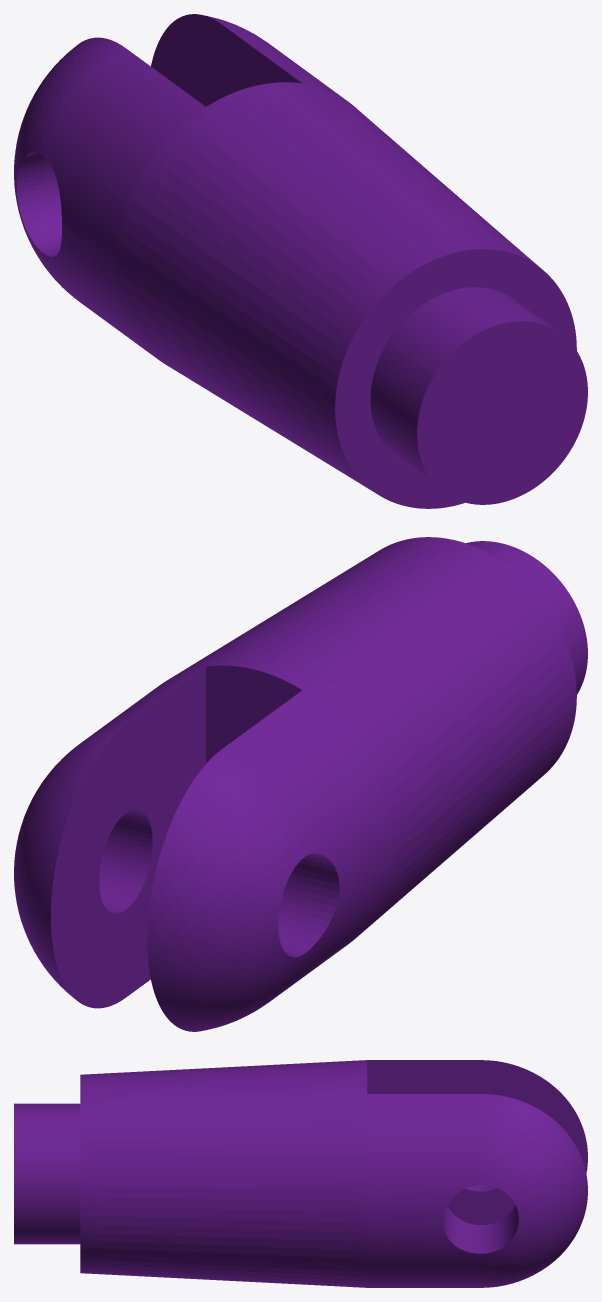
The picture shows the model from 3 angles, top to bottom: view 1: azimuth 30°, elevation 25°; view 2: azimuth 150°, elevation 25°; view 3: azimuth 270°, elevation 25°; orthographic projection. The views are drawn at different scales.
Visible parts, largest first — view 1: node; view 2: node; view 3: node.
Boxes of the visible parts, x1,y1,x2,y2 form: node: (14,14,587,508); node: (14,537,587,1031); node: (14,1060,587,1287).
Size of the model in its own units: 0.0595 by 0.0595 by 0.15.
